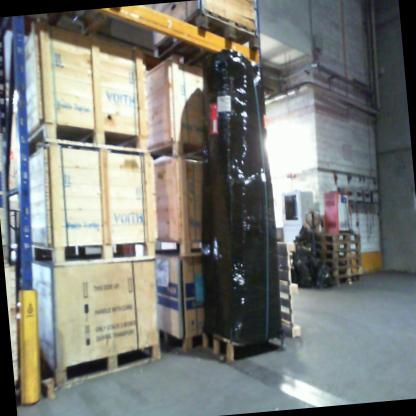pallet: (150, 0, 261, 70), (37, 333, 165, 386), (26, 112, 149, 163), (30, 231, 158, 273), (205, 326, 285, 364), (274, 238, 303, 339), (149, 137, 205, 167), (159, 323, 208, 356), (155, 234, 203, 260), (315, 229, 361, 246), (319, 240, 361, 255), (320, 248, 362, 262), (322, 256, 362, 269), (331, 265, 363, 278), (333, 275, 363, 285)
pallet_truck: (305, 210, 323, 254)
